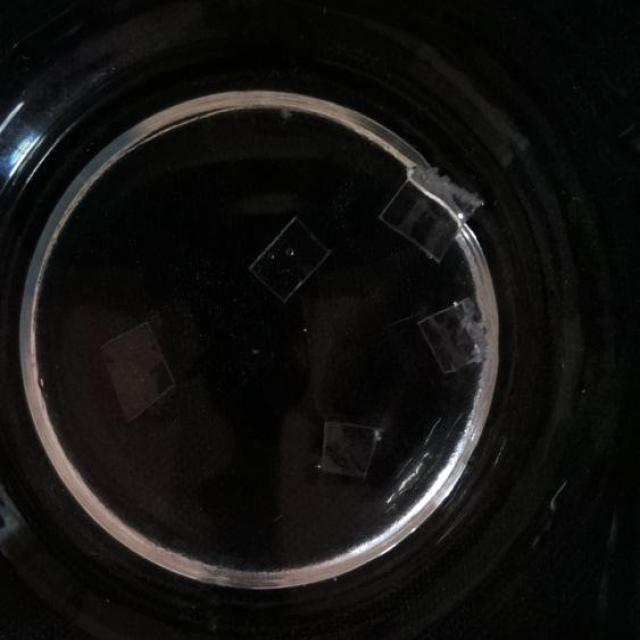fiber: (374, 170, 483, 268), (94, 324, 176, 426), (244, 212, 328, 306), (415, 300, 494, 370), (315, 423, 375, 481)
